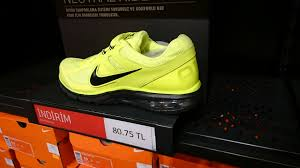nike: (88, 65, 145, 86)
